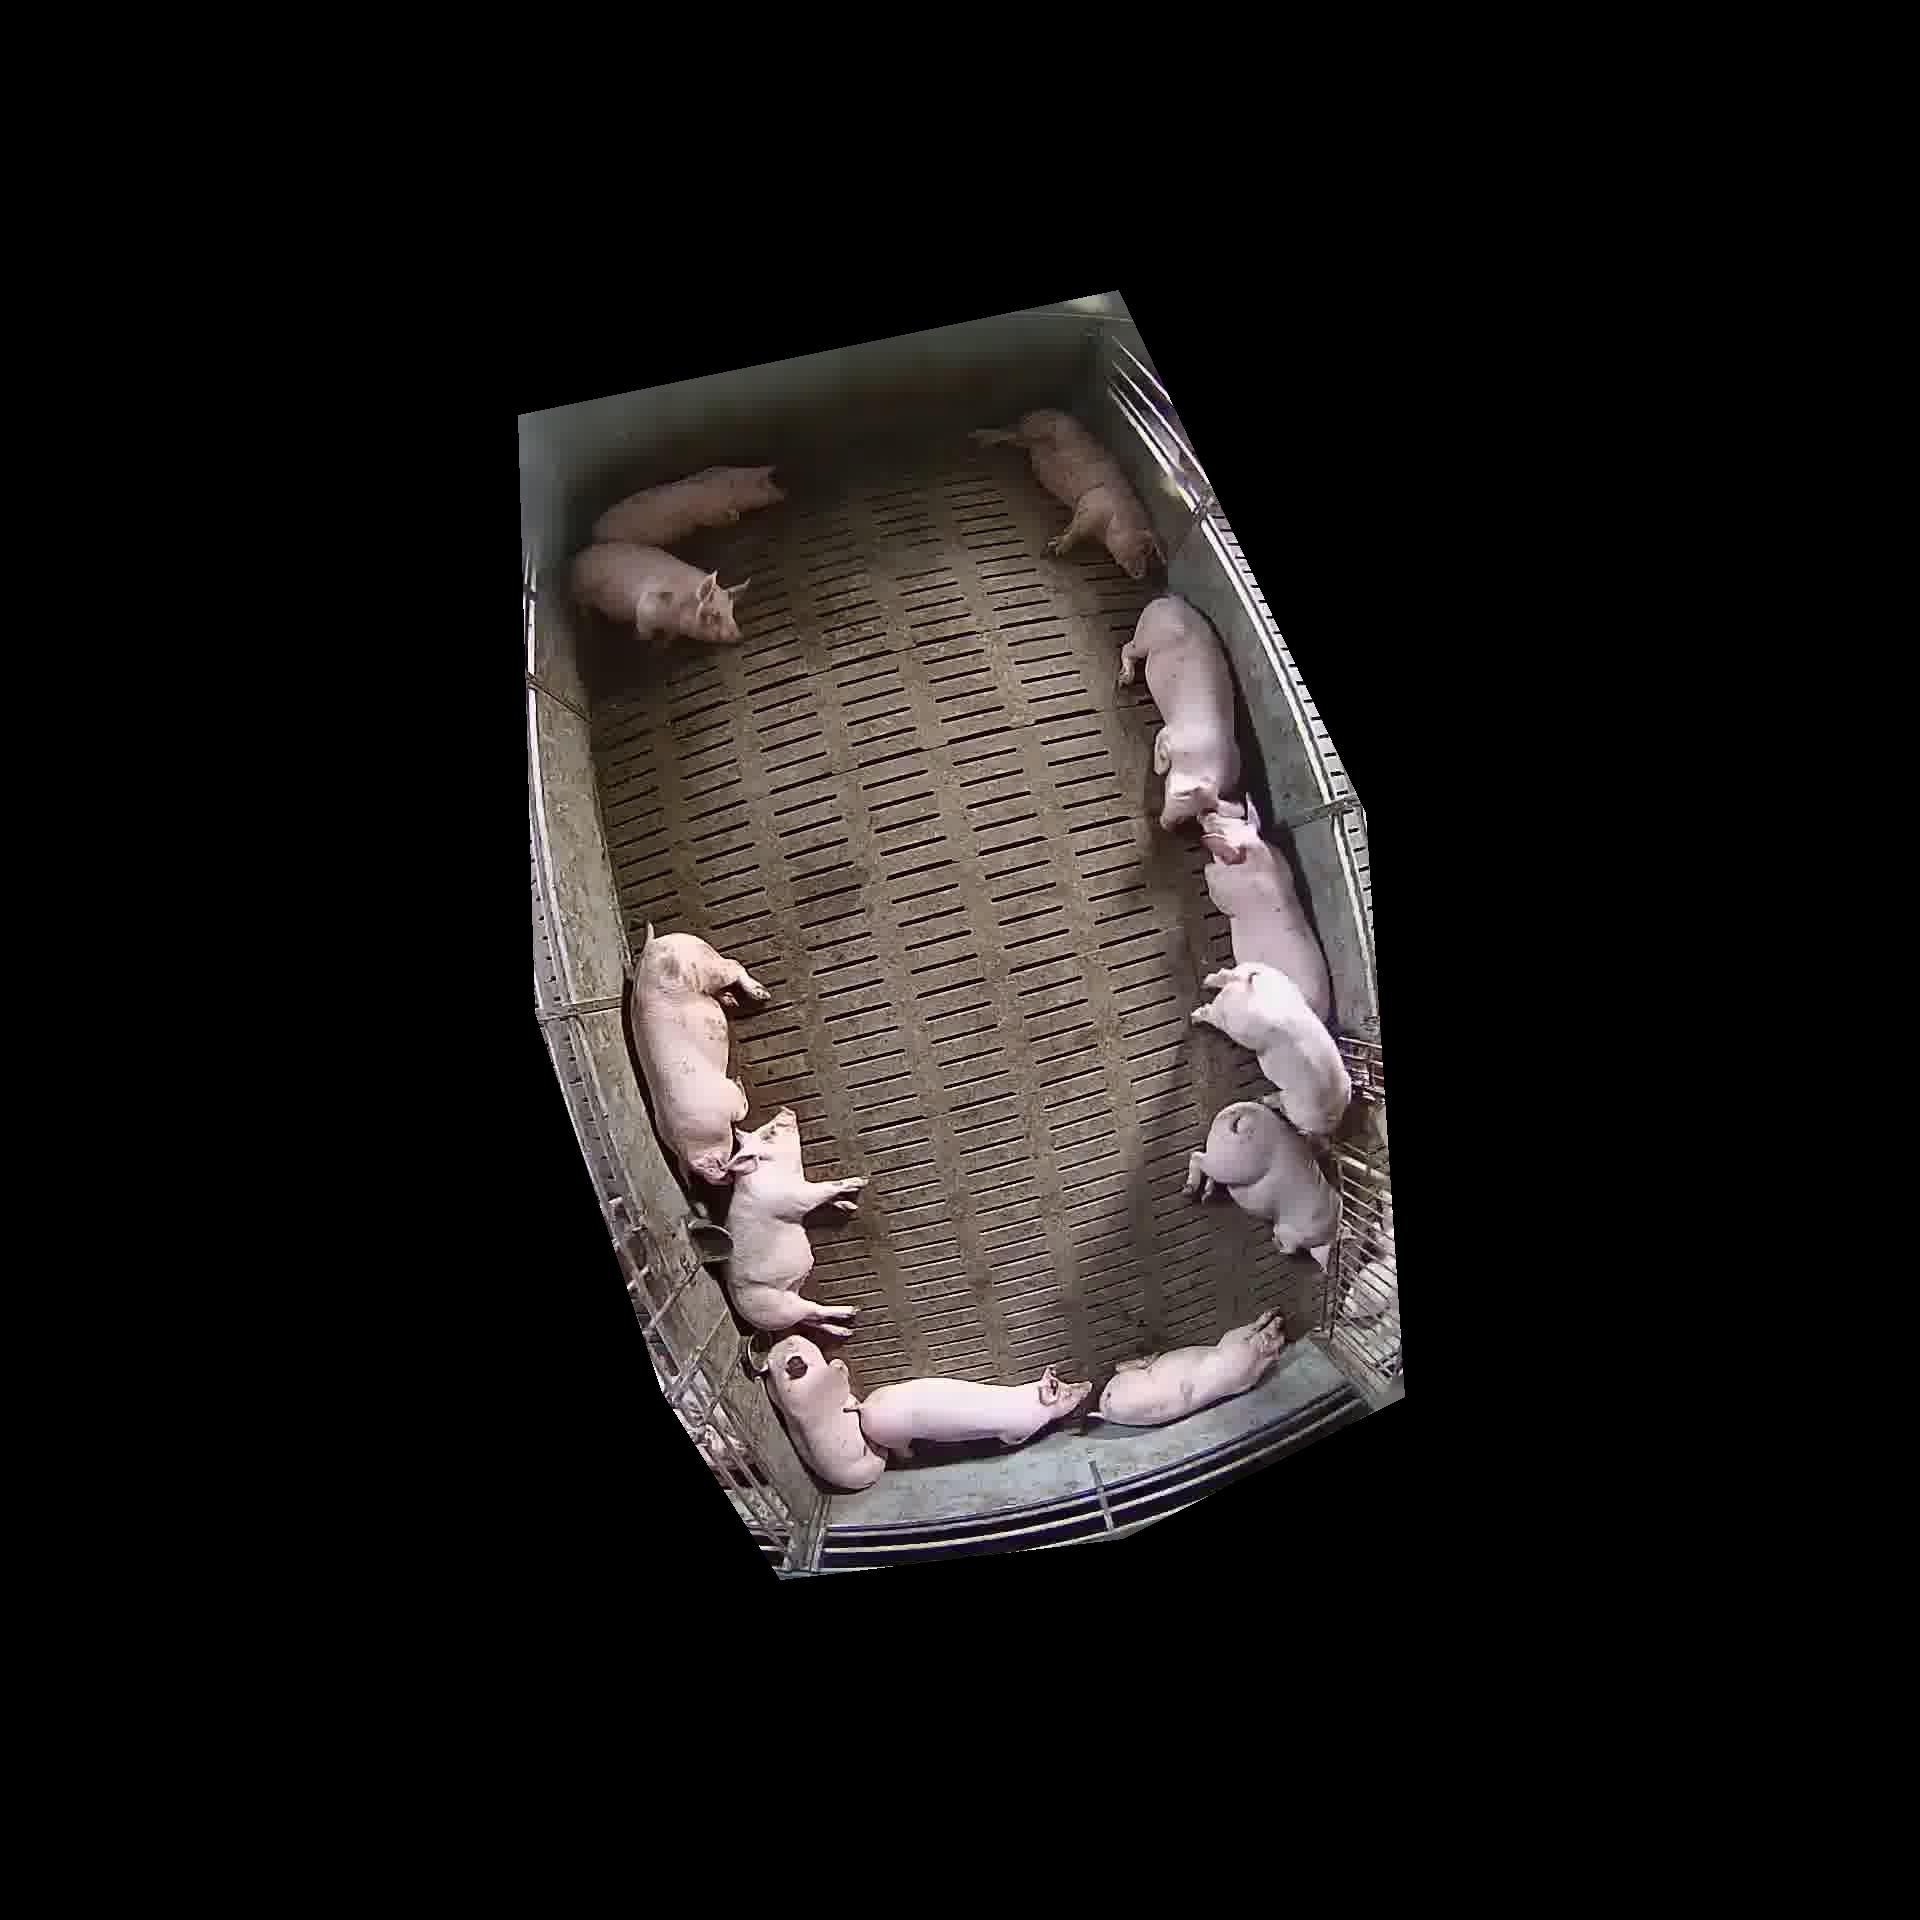pig: (629, 925, 768, 1182), (724, 1108, 867, 1335), (972, 410, 1159, 578), (1199, 804, 1329, 1020), (1120, 594, 1240, 828), (1192, 962, 1350, 1136), (1183, 1101, 1336, 1264), (1101, 1310, 1284, 1424), (860, 1370, 1090, 1456), (767, 1335, 884, 1489), (571, 542, 745, 642), (593, 466, 782, 547)
